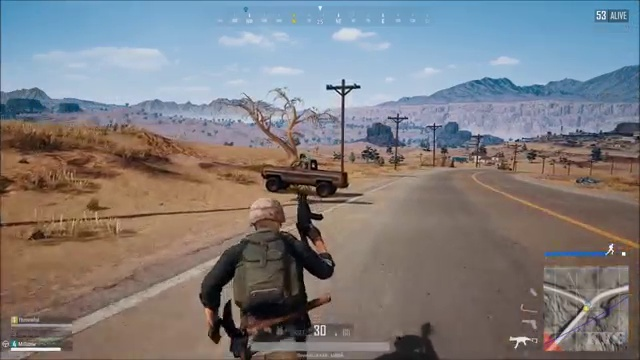Player: (169, 193, 360, 315)
